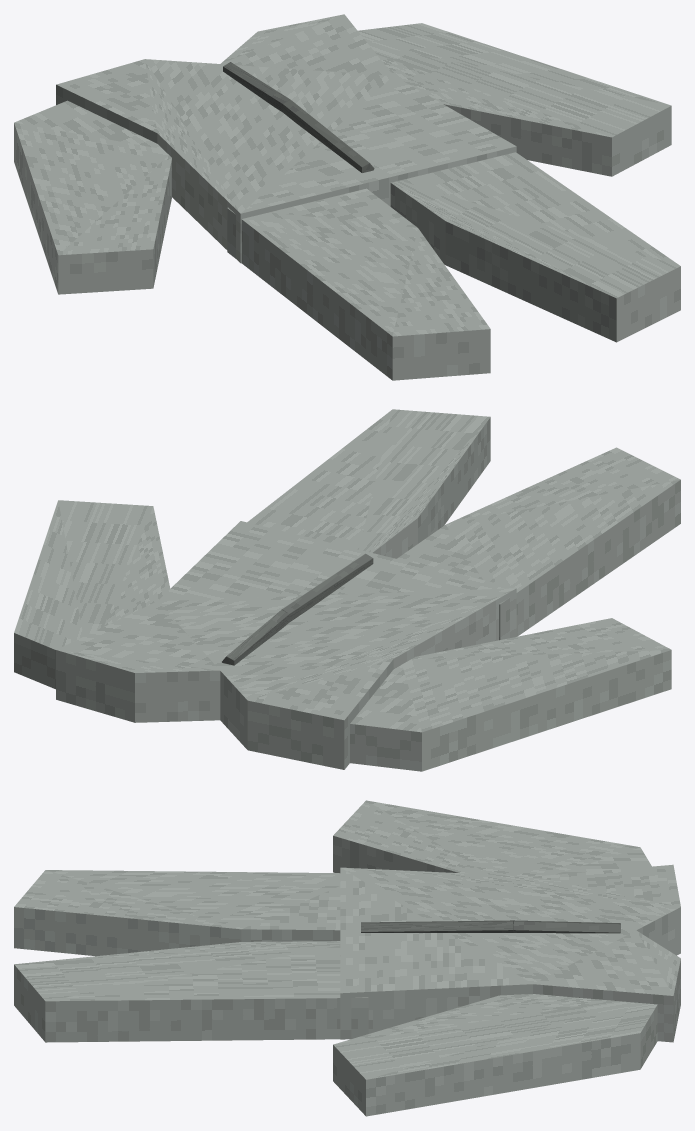
Rendered from nomex_suit.glb.
3 renders of one model, top to bottom at view 1: azimuth 30°, elevation 25°; view 2: azimuth 150°, elevation 25°; view 3: azimuth 270°, elevation 25°, orthographic. The views are drawn at different scales.
Visible parts, largest first — view 1: block_leg (×2), block_one-piece torso, block_sleeve (×2), block_body zip 1, block_body zip 0; view 2: block_one-piece torso, block_sleeve (×2), block_leg (×2), block_body zip 1, block_body zip 0; view 3: block_leg (×2), block_one-piece torso, block_sleeve (×2), block_body zip 1, block_body zip 0.
Boxes of the visible parts, box(x1,y1,x2,y2) form: block_leg (×2): box(227, 152, 680, 380); block_one-piece torso: box(56, 14, 516, 263); block_sleeve (×2): box(14, 23, 671, 294); block_body zip 1: box(283, 99, 374, 172); block_body zip 0: box(223, 62, 290, 112); block_one-piece torso: box(56, 521, 516, 769); block_sleeve (×2): box(14, 500, 671, 771); block_leg (×2): box(247, 409, 680, 640); block_body zip 1: box(282, 553, 373, 622); block_body zip 0: box(222, 609, 289, 665); block_leg (×2): box(14, 870, 368, 1042); block_one-piece torso: box(340, 864, 680, 1042); block_sleeve (×2): box(333, 800, 657, 1116); block_body zip 1: box(361, 920, 513, 932); block_body zip 0: box(513, 920, 620, 933).
Bounding box in the file's own units: 0.5924 × 0.0567 × 0.5975.
1 material, 1 textured.
